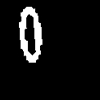chain: (19, 7, 41, 61)
